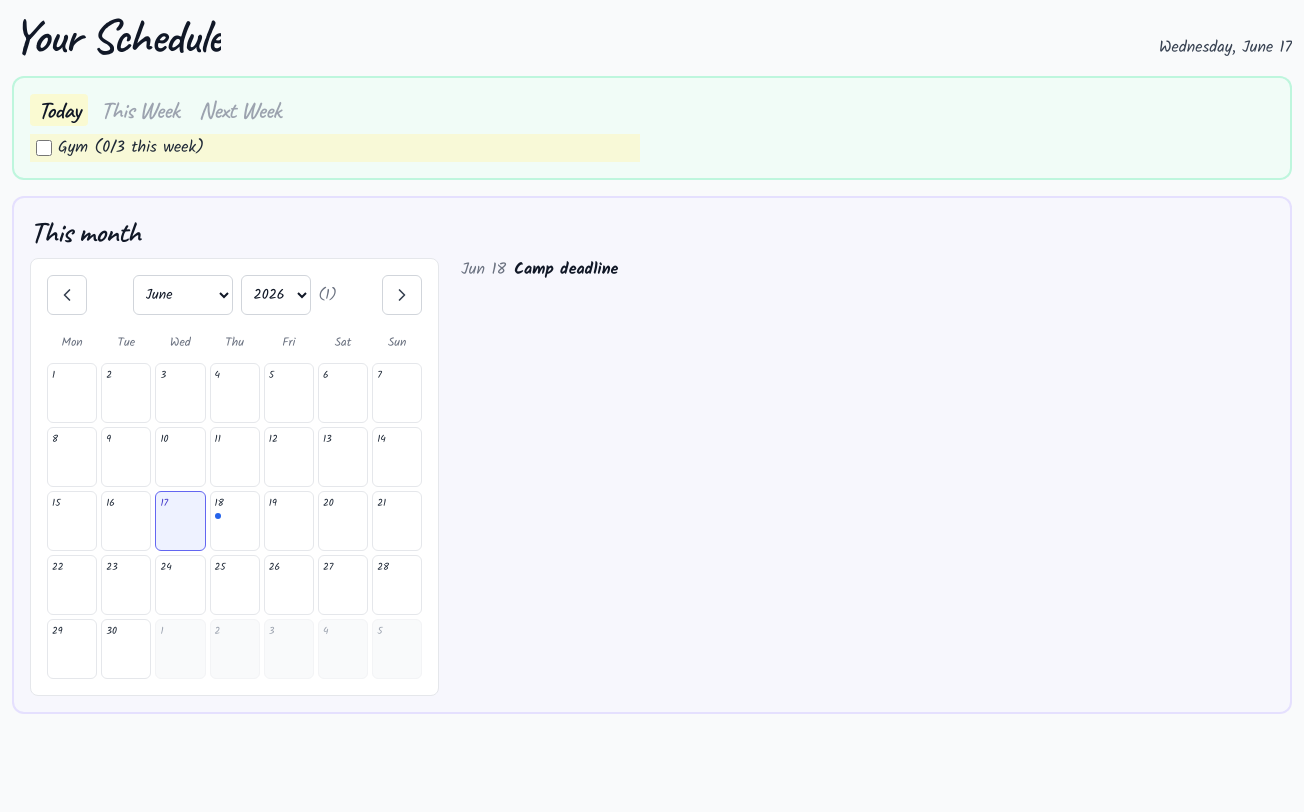
Test case: ScheduleOverview › clicking a month-list entry reveals the reused EventCard there
What coordinates should you click on to do the following:
click the button "Jun 18Camp deadline"
I would click on:
 (484, 270)
Its box is [455,258,857,282].
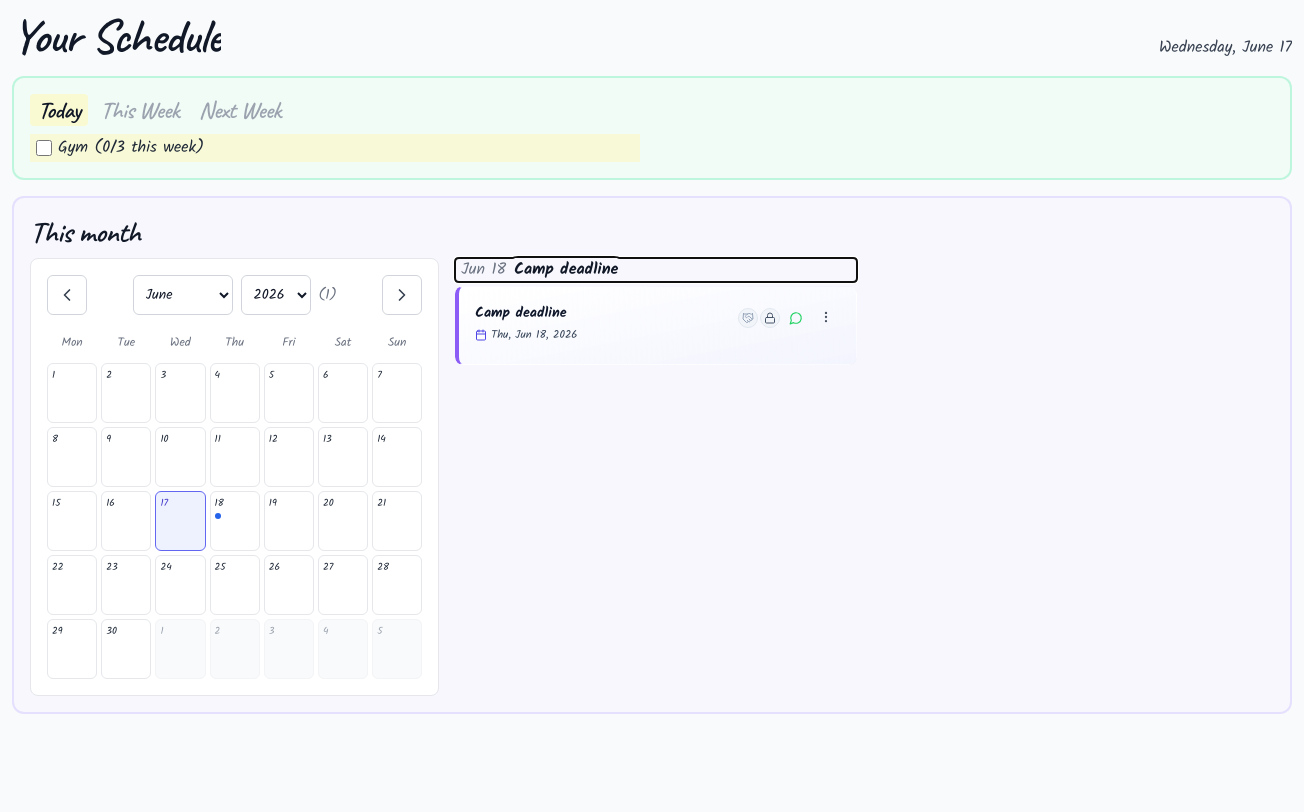
Expected: the element with test id "quick-event-card" is shown, [455,286,857,364]
